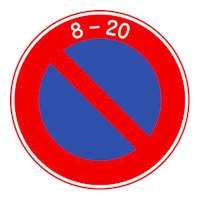Prohibition_sign: (4, 4, 196, 195)
